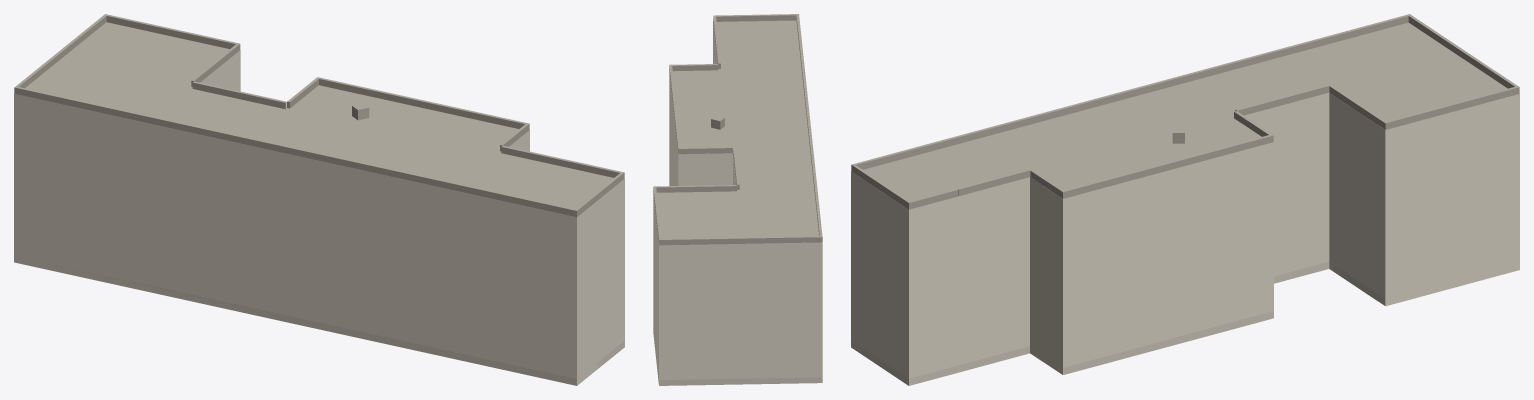
File: cop_equipamento_especial_04__way_488128349.fbx
3 renders of one model, left to right at view 1: azimuth 30°, elevation 25°; view 2: azimuth 150°, elevation 25°; view 3: azimuth 270°, elevation 25°, orthographic. The views are drawn at different scales.
Visible parts, largest first — view 1: cop_equipamento_especial_04__way_488128349_wall, cop_equipamento_especial_04__way_488128349_roof, cop_equipamento_especial_04__way_488128349_stone; view 2: cop_equipamento_especial_04__way_488128349_roof, cop_equipamento_especial_04__way_488128349_wall, cop_equipamento_especial_04__way_488128349_stone; view 3: cop_equipamento_especial_04__way_488128349_wall, cop_equipamento_especial_04__way_488128349_roof, cop_equipamento_especial_04__way_488128349_stone.
Part boxes in pixels (bbox=[...]): cop_equipamento_especial_04__way_488128349_wall: bbox=[14, 50, 624, 385]; cop_equipamento_especial_04__way_488128349_roof: bbox=[14, 14, 624, 217]; cop_equipamento_especial_04__way_488128349_stone: bbox=[18, 256, 624, 385]; cop_equipamento_especial_04__way_488128349_roof: bbox=[653, 14, 822, 245]; cop_equipamento_especial_04__way_488128349_wall: bbox=[653, 22, 822, 385]; cop_equipamento_especial_04__way_488128349_stone: bbox=[655, 350, 822, 385]; cop_equipamento_especial_04__way_488128349_wall: bbox=[851, 93, 1519, 385]; cop_equipamento_especial_04__way_488128349_roof: bbox=[851, 14, 1519, 209]; cop_equipamento_especial_04__way_488128349_stone: bbox=[851, 261, 1385, 385].
Bounding box in the file's own units: 4148 × 1913 × 6195.
